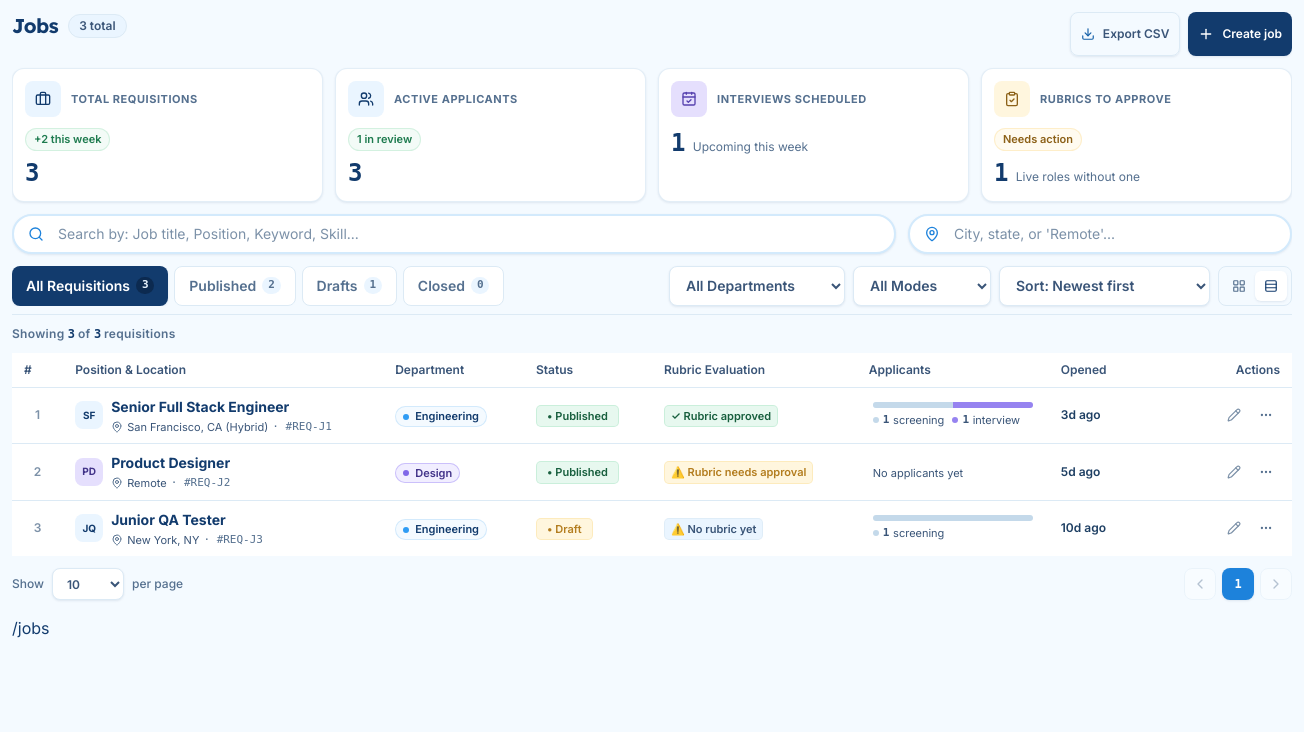
Scenario: JobList Recruiter UX & Navigation › filters jobs by location/workplace
Expected: the button "Senior Full Stack Engineer" is shown, [111,396,332,416]
Type "Remote" into the field with placeholder "City, state, or 'Remote'..." at (1100, 234), box [908,214,1292,254]
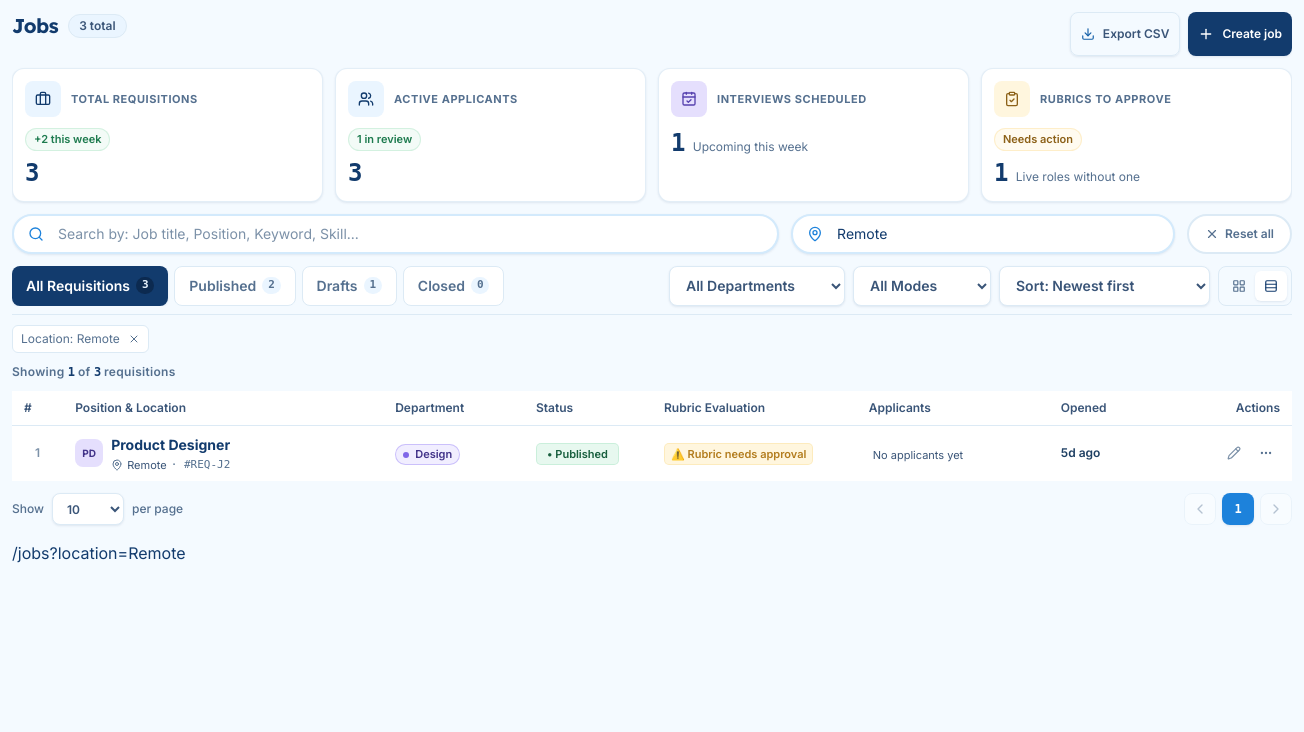
Expected: the button "Product Designer" is shown, [111,434,230,454]
Expected: the button "Senior Full Stack Engineer" is gone
